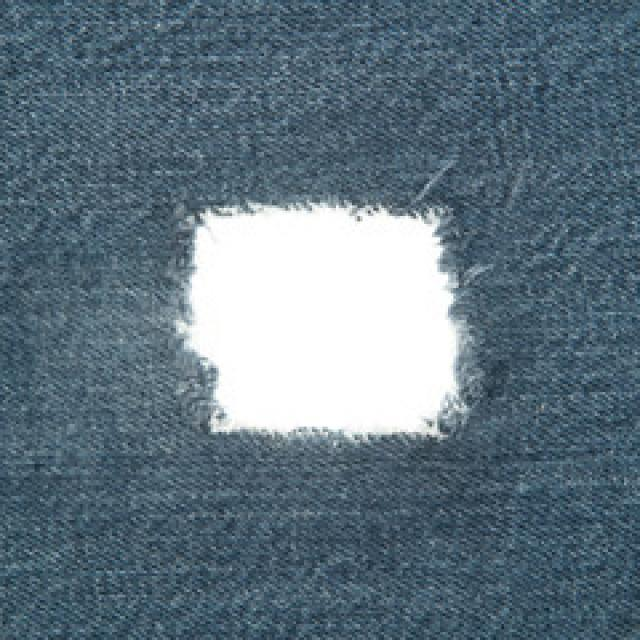Hole: (177, 203, 465, 440)
